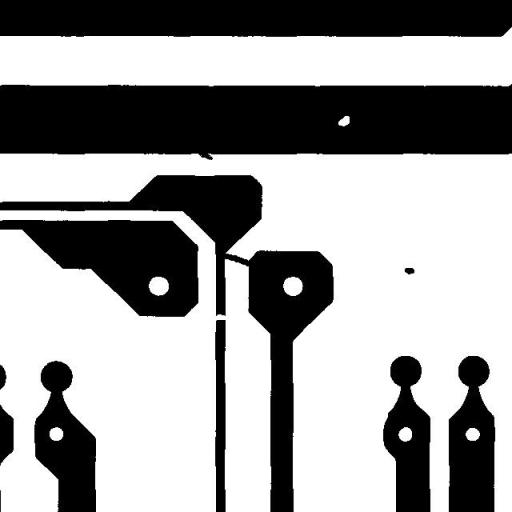copper: (396, 260, 422, 282)
open: (206, 306, 234, 328)
pin-hole: (330, 108, 357, 134)
short: (215, 246, 258, 274)
spur: (185, 141, 220, 167)
